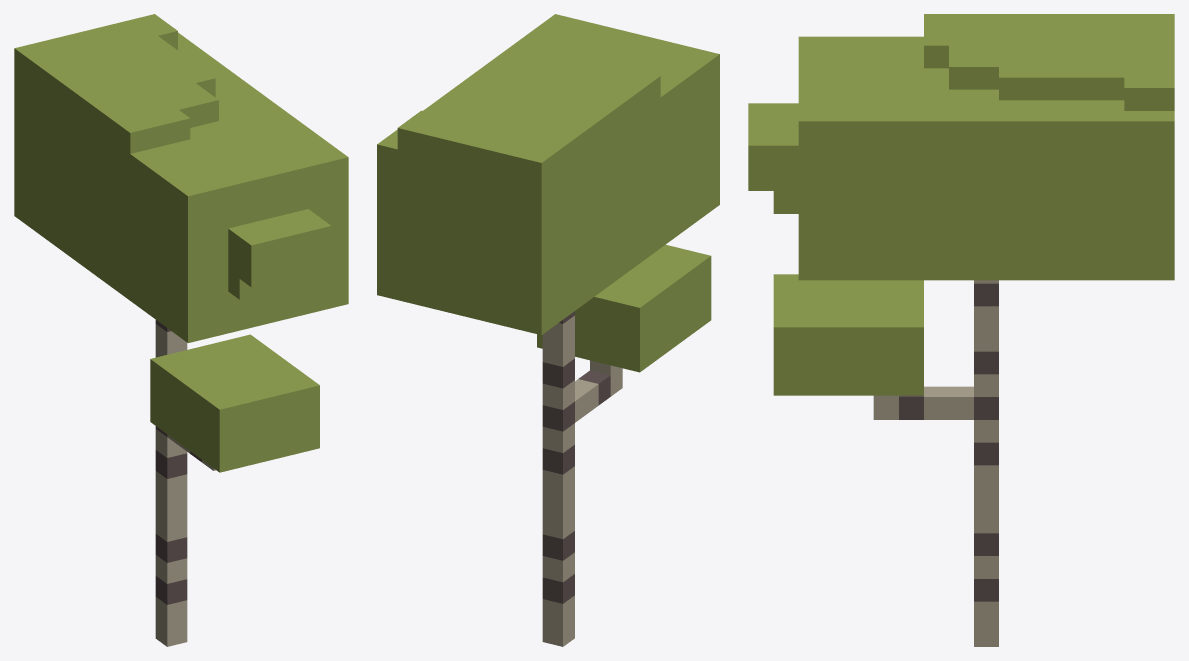
File: Green tree 1.obj
The picture shows the model from 3 angles, left to right: view 1: azimuth 30°, elevation 25°; view 2: azimuth 150°, elevation 25°; view 3: azimuth 270°, elevation 25°; orthographic projection. The views are drawn at different scales.
Size of the model in its own units: 0.8 by 2.6 by 1.7.
